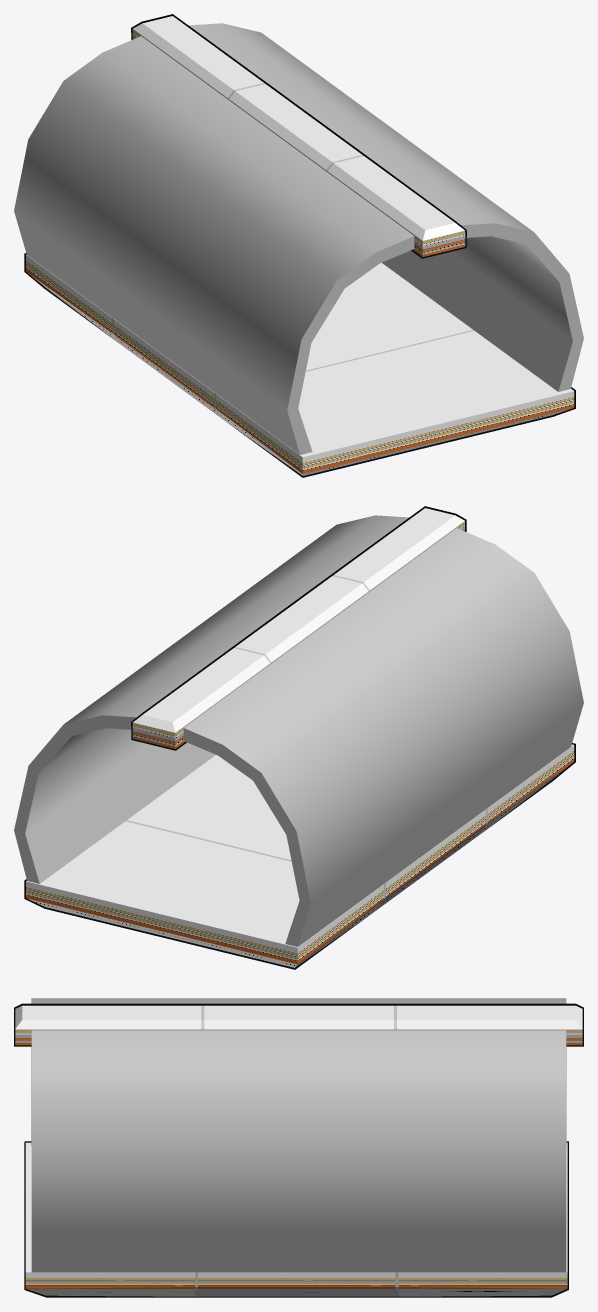
Rendered from Rooms_Paradise_SciFiBridge_Art.fbx.
The picture shows the model from 3 angles, top to bottom: view 1: azimuth 30°, elevation 25°; view 2: azimuth 150°, elevation 25°; view 3: azimuth 270°, elevation 25°; orthographic projection. The views are drawn at different scales.
Visible parts, largest first — view 1: Rooms_Paradise_SciFiBridge_Art, Rooms_Paradise_SciFiBridge_Outliner, Rooms_Paradise_SciFiBridge_Shadows; view 2: Rooms_Paradise_SciFiBridge_Art, Rooms_Paradise_SciFiBridge_Outliner, Rooms_Paradise_SciFiBridge_Shadows; view 3: Rooms_Paradise_SciFiBridge_Art, Rooms_Paradise_SciFiBridge_Outliner.
Boxes of the visible parts, x1,y1,x2,y2 form: Rooms_Paradise_SciFiBridge_Art: (14, 16, 583, 475); Rooms_Paradise_SciFiBridge_Outliner: (24, 14, 575, 477); Rooms_Paradise_SciFiBridge_Shadows: (24, 17, 575, 405); Rooms_Paradise_SciFiBridge_Art: (14, 508, 583, 967); Rooms_Paradise_SciFiBridge_Outliner: (24, 506, 575, 969); Rooms_Paradise_SciFiBridge_Shadows: (24, 509, 575, 895); Rooms_Paradise_SciFiBridge_Art: (15, 998, 582, 1296); Rooms_Paradise_SciFiBridge_Outliner: (14, 1003, 583, 1297).
Bounding box in the file's own units: 601 × 448 × 1021.
